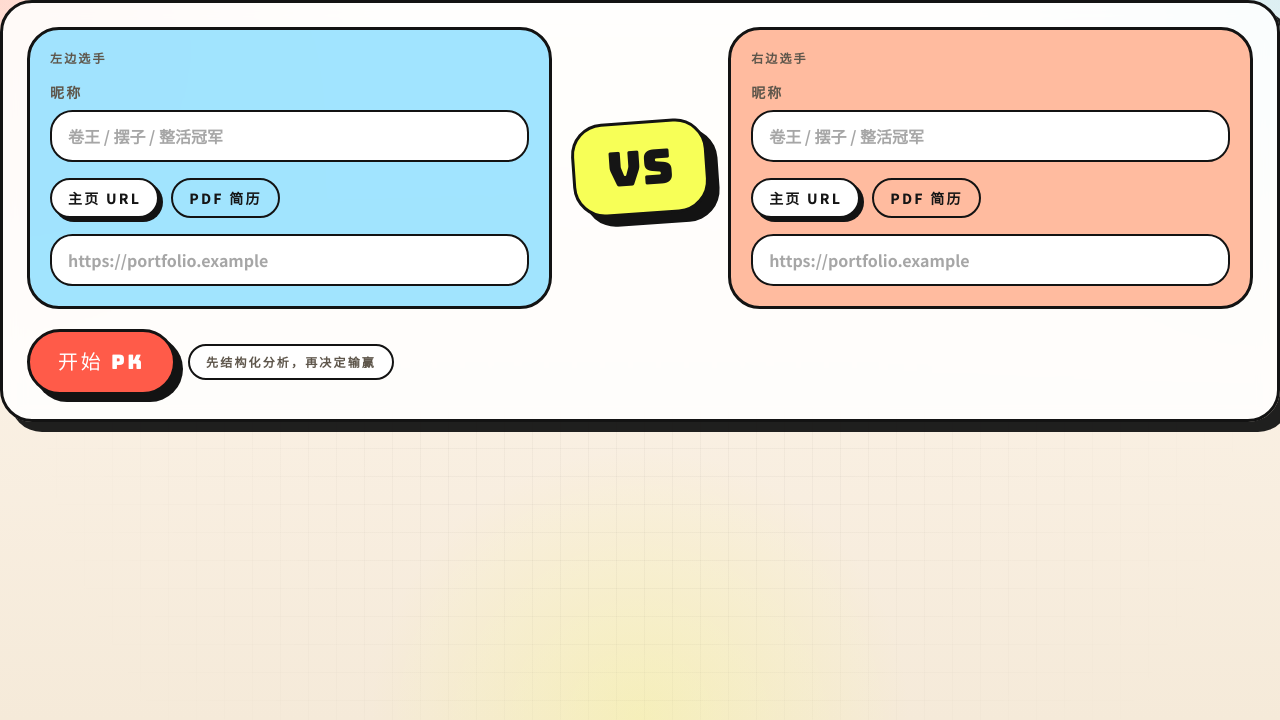
Test case: DuelArena › submits two contenders and shows the duel verdict
The width and height of the screenshot is (1280, 720).
Type "左边" into the field with placeholder "卷王 / 摆子 / 整活冠军" below "左边选手" at (289, 136), box [50, 110, 529, 162]
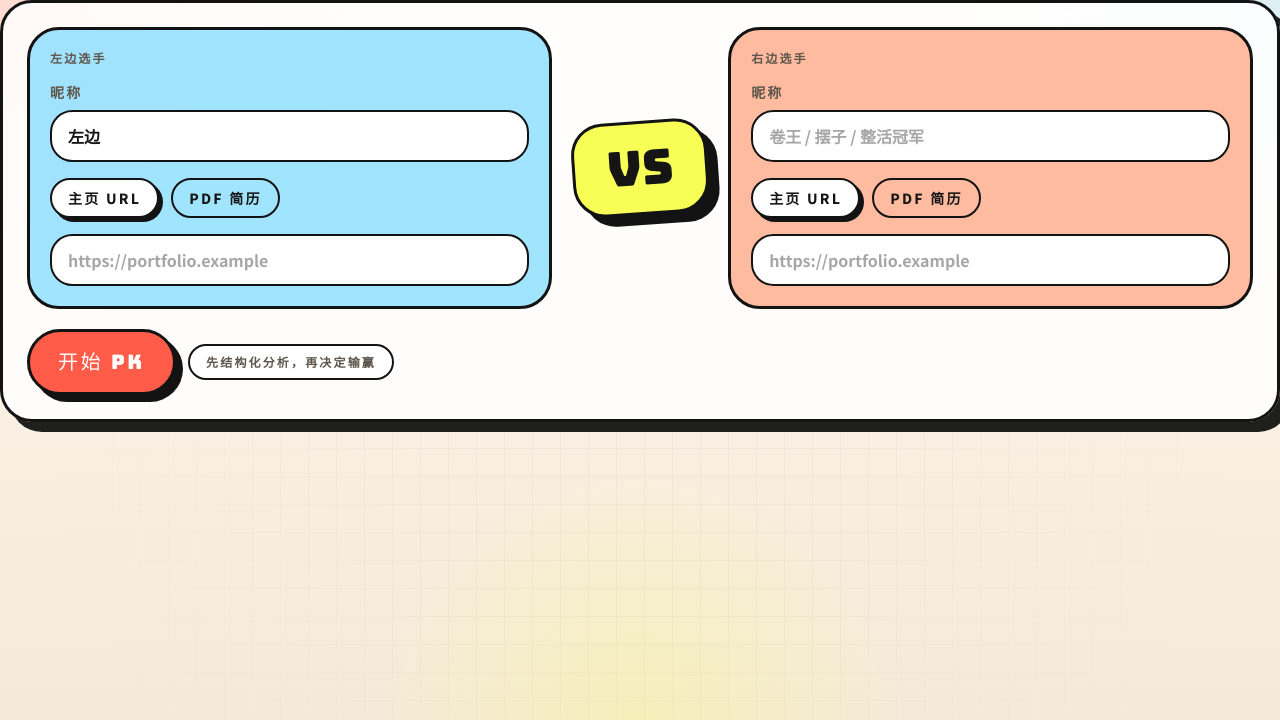
Type "右边" into the field with placeholder "卷王 / 摆子 / 整活冠军" below "右边选手" at (991, 136), box [751, 110, 1230, 162]
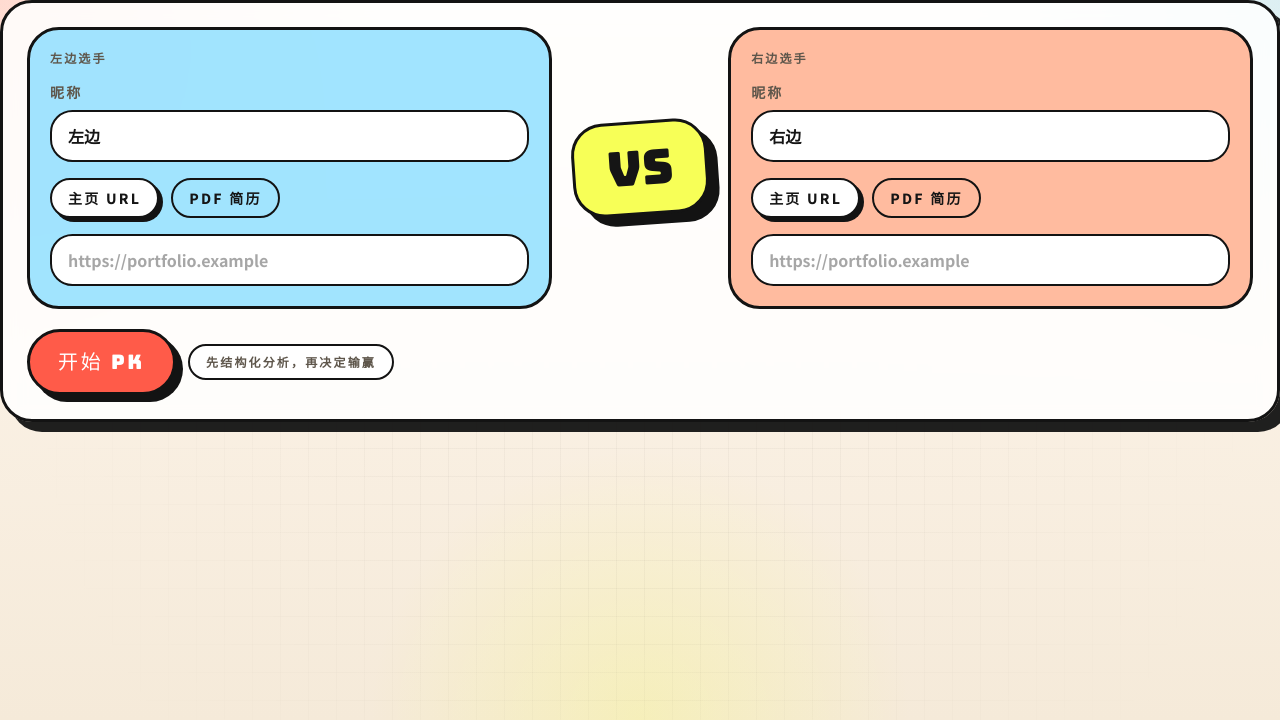
Type "https://left.example" into the field with placeholder "https://portfolio.example" below "左边选手" at (289, 260), box [50, 234, 529, 286]
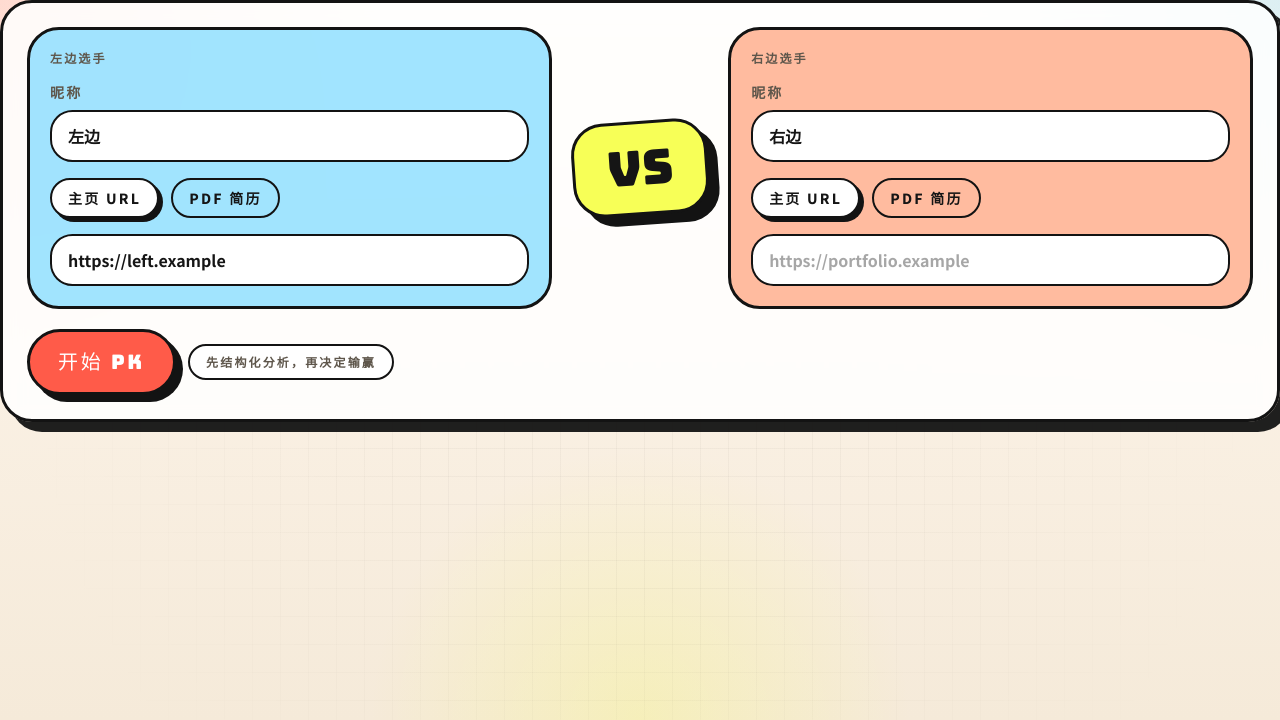
Type "https://right.example" into the field with placeholder "https://portfolio.example" at (991, 260), box [751, 234, 1230, 286]
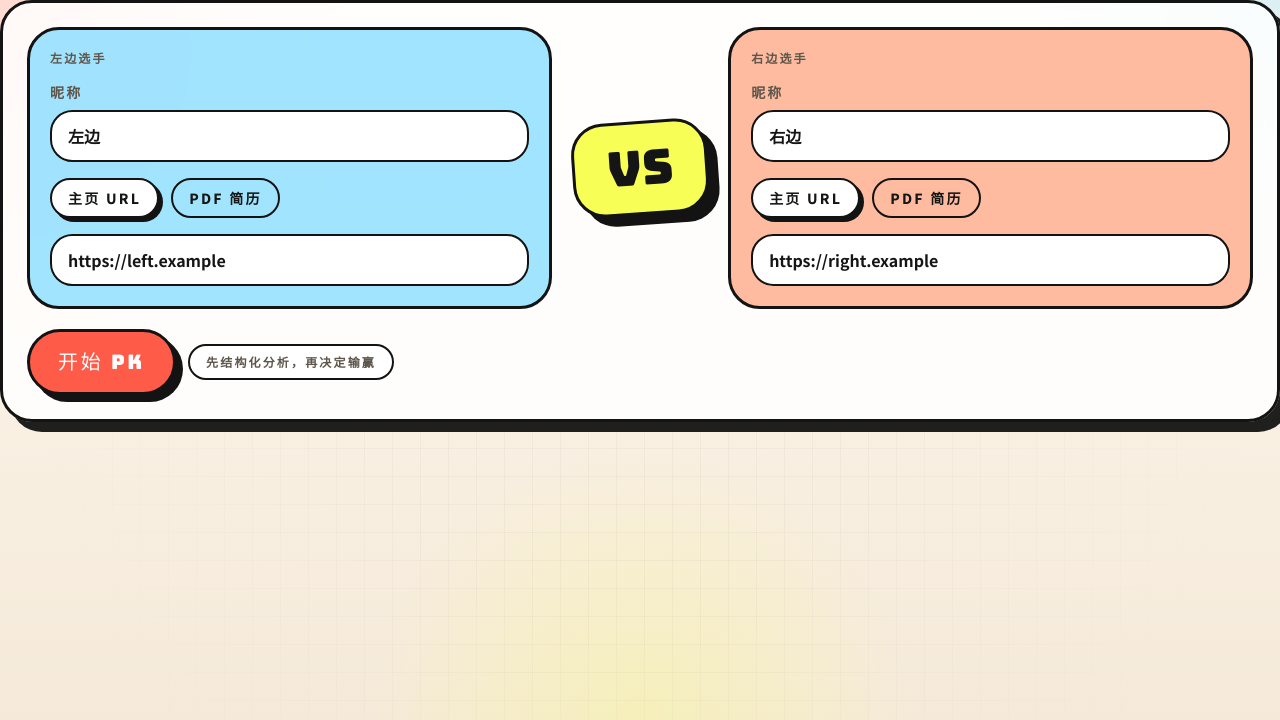
Click the button "开始 PK" at (102, 362), box [27, 329, 176, 395]
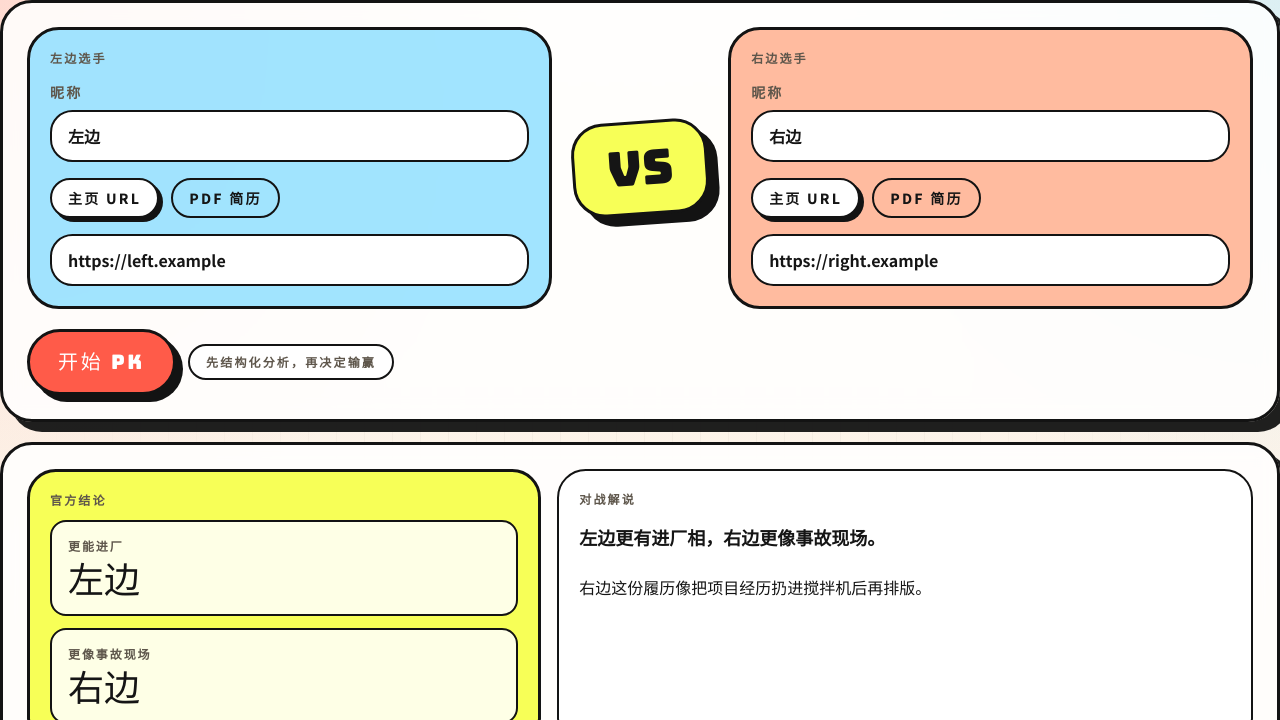
Now the text "左边更有进厂相，右边更像事故现场。" is shown, box [579, 524, 885, 550]
Now the text "右边这份履历像把项目经历扔进搅拌机后再排版。" is shown, box [579, 575, 931, 599]
